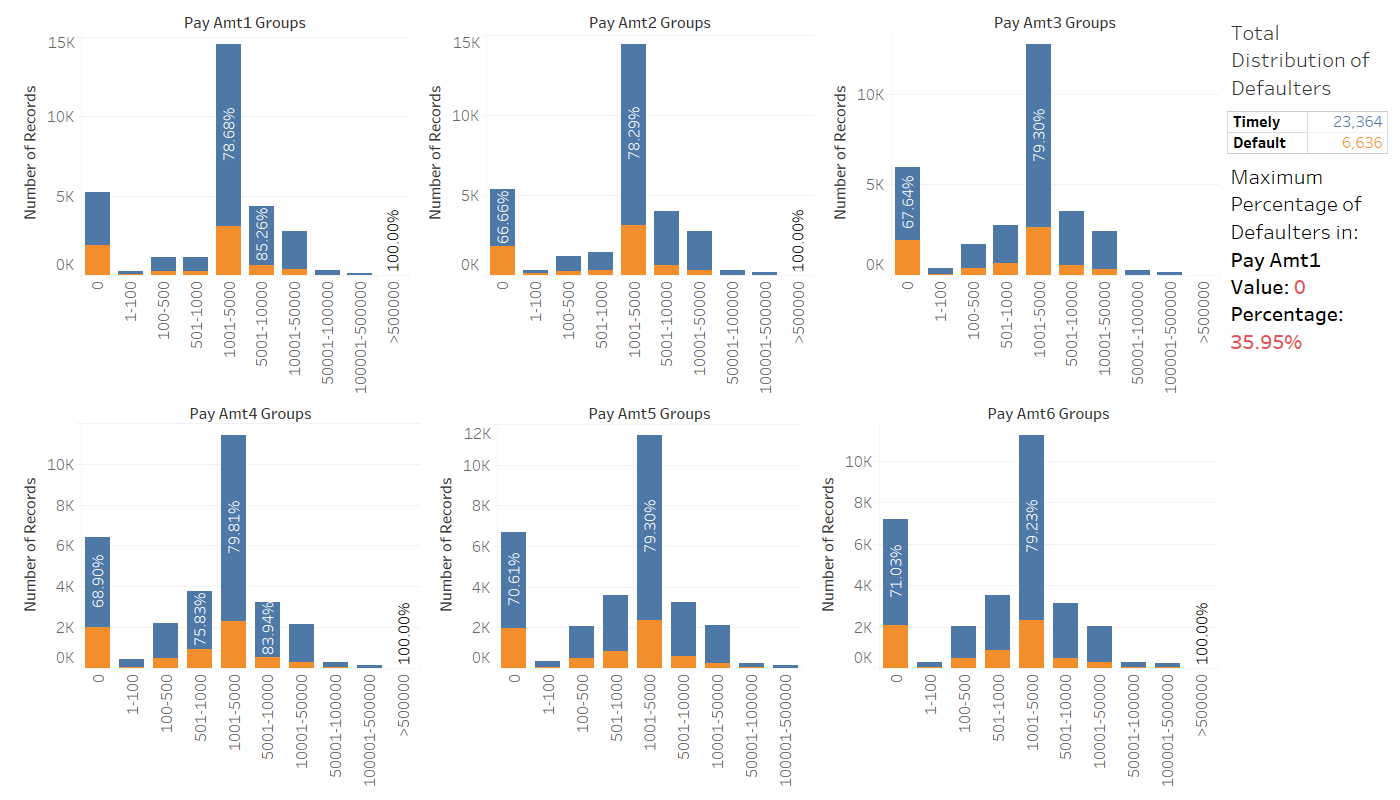

The dashboard page shown, as its layout file describes it:
{"tool":"tableau","page":{"name":"Pay Amt","canvas":[1400,800],"ordinal":4},"visuals":[{"type":"worksheet","title":"Sheet 28","mark":"Automatic","rows":["Number of Records"],"cols":["Calculation_1139692189404782595"],"box":[8,8,404.9,391.2]},{"type":"worksheet","title":"Sheet 29","mark":"Automatic","rows":["Number of Records"],"cols":["Pay Amt1 Groups (copy)"],"box":[412.9,8,404.9,391.2]},{"type":"worksheet","title":"Sheet 30","mark":"Automatic","rows":["Number of Records"],"cols":["Pay Amt2 Groups (copy)"],"box":[817.7,8,404.9,391.2]},{"type":"worksheet","title":"Sheet 40","mark":"Automatic","rows":["default.payment.next.month"],"box":[1223,8,169,150]},{"type":"text","box":[1223,158,169,204]},{"type":"worksheet","title":"Sheet 31","mark":"Automatic","rows":["Number of Records"],"cols":["Pay Amt3 Groups  (copy)"],"box":[8,399.2,416.5,392.8]},{"type":"worksheet","title":"Sheet 32","mark":"Automatic","rows":["Number of Records"],"cols":["Pay Amt4 Groups (copy)"],"box":[424.5,399.2,381.7,392.8]},{"type":"worksheet","title":"Sheet 33","mark":"Automatic","rows":["Number of Records"],"cols":["Pay Amt5 Groups (copy)"],"box":[806.2,399.2,416.5,392.8]}]}

Visuals, with their boxes in screenshot pixels (x1, y1, x2, y2), scaled from the page's 1400x800 canvas onto the 1400x800 screenshot:
"Sheet 28" worksheet: {"x1": 8, "y1": 8, "x2": 413, "y2": 399}
"Sheet 29" worksheet: {"x1": 413, "y1": 8, "x2": 818, "y2": 399}
"Sheet 30" worksheet: {"x1": 818, "y1": 8, "x2": 1223, "y2": 399}
"Sheet 40" worksheet: {"x1": 1223, "y1": 8, "x2": 1392, "y2": 158}
text: {"x1": 1223, "y1": 158, "x2": 1392, "y2": 362}
"Sheet 31" worksheet: {"x1": 8, "y1": 399, "x2": 424, "y2": 792}
"Sheet 32" worksheet: {"x1": 424, "y1": 399, "x2": 806, "y2": 792}
"Sheet 33" worksheet: {"x1": 806, "y1": 399, "x2": 1223, "y2": 792}
